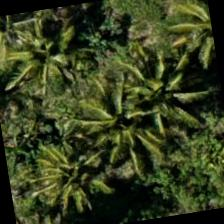Kelapa_Sawit: (107, 48, 210, 151), (5, 2, 108, 102), (9, 124, 113, 223), (0, 9, 53, 66)
